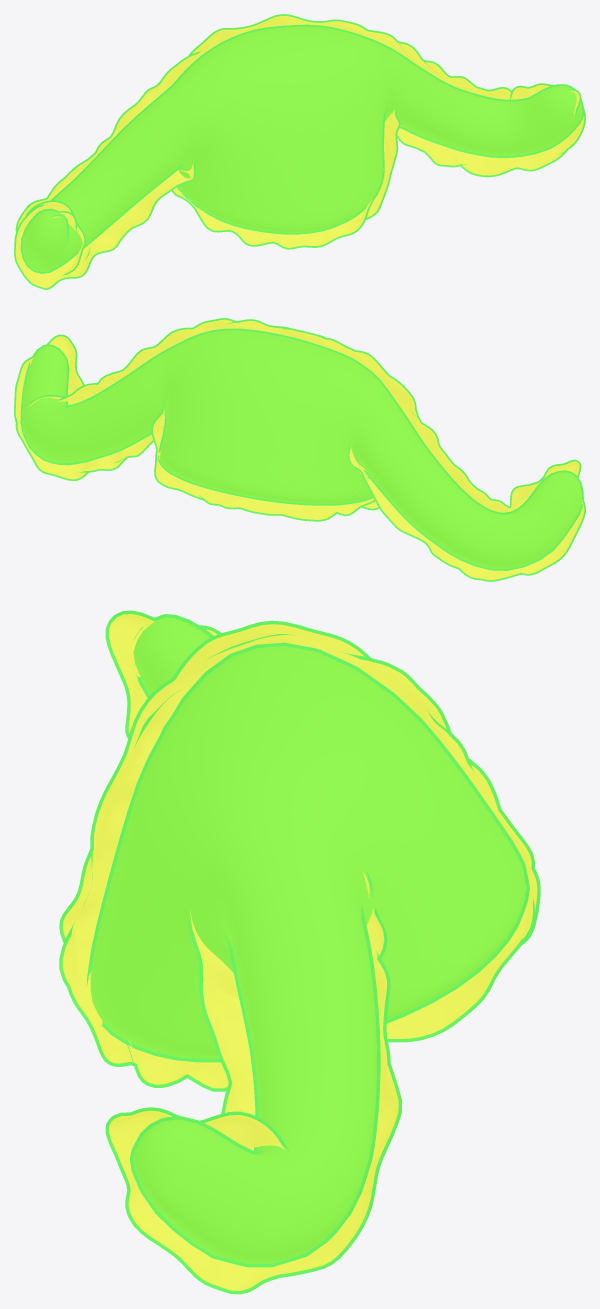
File: TORSO.CHEMISTRY.RADIOACTIVE.glb
3 renders of one model, top to bottom at view 1: azimuth 30°, elevation 25°; view 2: azimuth 150°, elevation 25°; view 3: azimuth 270°, elevation 25°, orthographic. The views are drawn at different scales.
Visible parts, largest first — view 1: TORSO.CHEMISTRY.RADIOACTIVE; view 2: TORSO.CHEMISTRY.RADIOACTIVE; view 3: TORSO.CHEMISTRY.RADIOACTIVE.
Boxes of the visible parts, left/top/right/bottom form: TORSO.CHEMISTRY.RADIOACTIVE: left=14, top=14, right=585, bottom=289; TORSO.CHEMISTRY.RADIOACTIVE: left=14, top=318, right=585, bottom=581; TORSO.CHEMISTRY.RADIOACTIVE: left=59, top=610, right=540, bottom=1294.
Bounding box in the file's own units: 2.79 × 0.9157 × 1.04.
